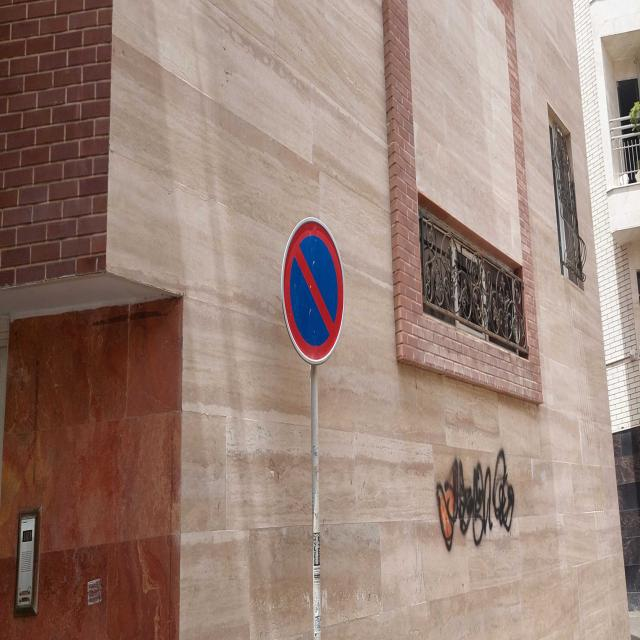forb_stopping: (282, 216, 345, 365)
